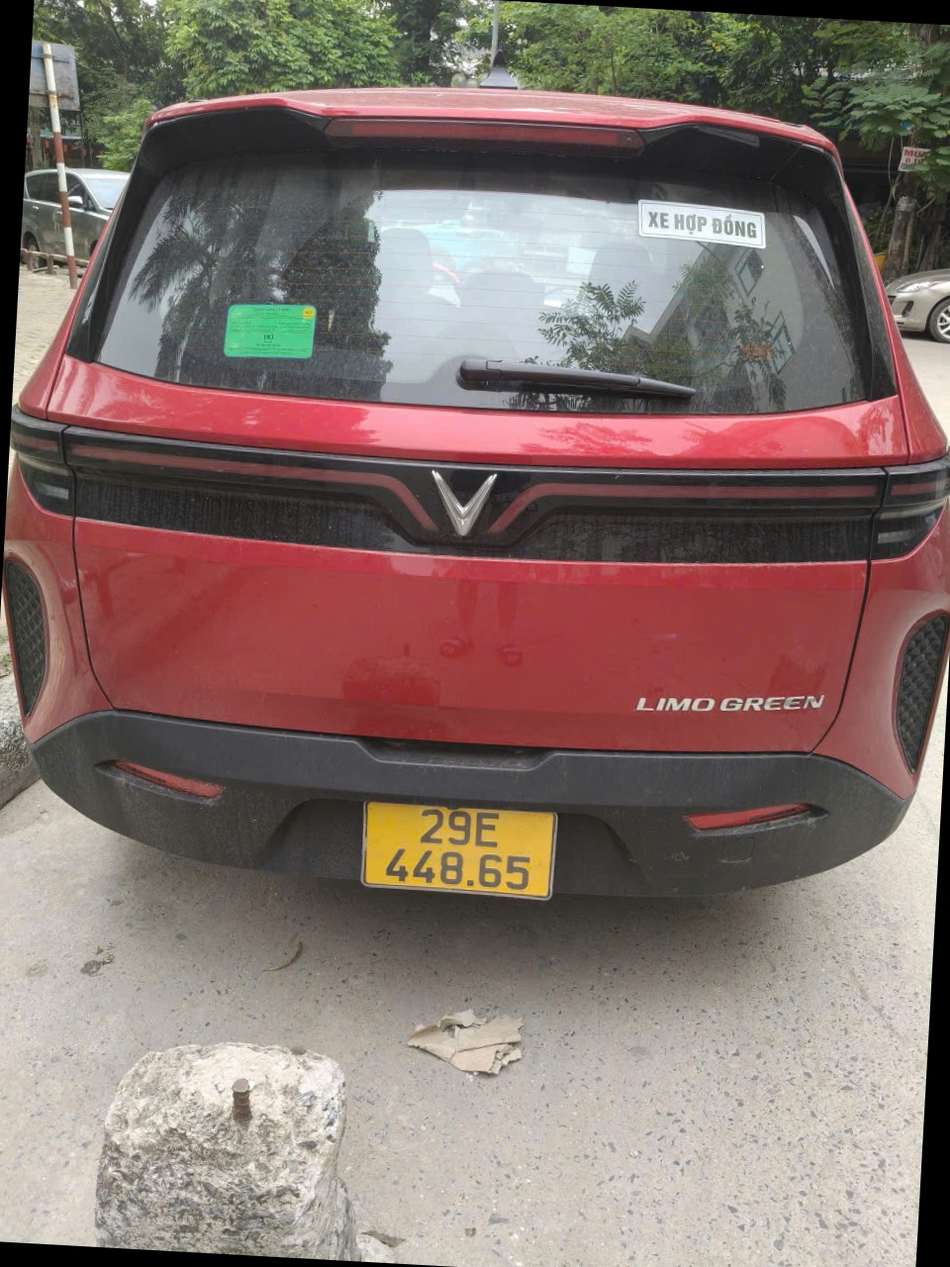plate: (407, 1013, 523, 1060)
